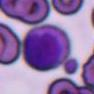L: (23, 25, 70, 71)
